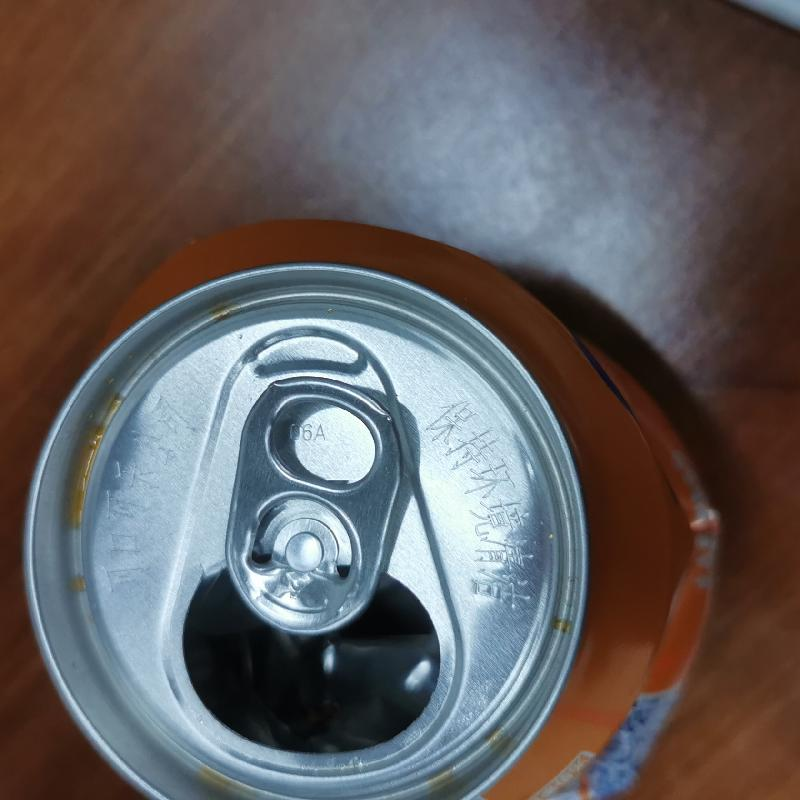cans: (19, 213, 726, 799)
